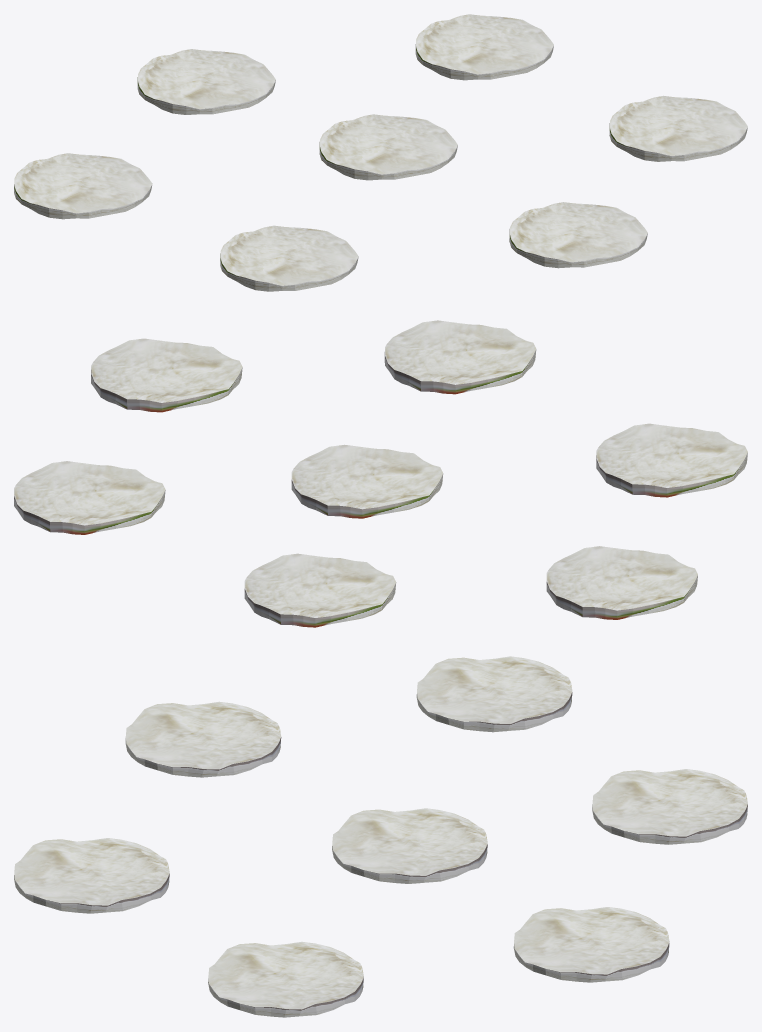
The model's file is mozzarella_op_pizza.glb.
3 views of the same model, one above another, from view 1: azimuth 30°, elevation 25°; view 2: azimuth 150°, elevation 25°; view 3: azimuth 270°, elevation 25° (orthographic). The views are drawn at different scales.
Visible parts, largest first — view 1: Cylinder.004, Cylinder.005, Cylinder.007, Cylinder, Cylinder.003, Cylinder.006, Cylinder.001; view 2: Cylinder.006, Cylinder.007, Cylinder, Cylinder.003, Cylinder.005, Cylinder.001, Cylinder.004; view 3: Cylinder.001, Cylinder.006, Cylinder.003, Cylinder, Cylinder.004, Cylinder.005, Cylinder.007.
Part boxes in pixels (x1,y1,x2,y2): Cylinder.004: [609, 95, 747, 161]; Cylinder.005: [415, 14, 553, 80]; Cylinder.007: [14, 153, 152, 219]; Cylinder: [319, 114, 457, 180]; Cylinder.003: [509, 202, 647, 268]; Cylinder.006: [137, 49, 275, 114]; Cylinder.001: [220, 225, 358, 291]; Cylinder.006: [244, 553, 396, 627]; Cylinder.007: [546, 546, 697, 619]; Cylinder: [291, 444, 443, 518]; Cylinder.003: [384, 320, 536, 394]; Cylinder.005: [14, 461, 165, 534]; Cylinder.001: [596, 423, 747, 497]; Cylinder.004: [91, 338, 242, 412]; Cylinder.001: [125, 701, 281, 777]; Cylinder.006: [592, 769, 747, 844]; Cylinder.003: [14, 838, 169, 913]; Cylinder: [332, 808, 487, 883]; Cylinder.004: [208, 941, 363, 1017]; Cylinder.005: [513, 907, 669, 982]; Cylinder.007: [416, 656, 572, 732].
Bounding box in the file's own units: 2.04 × 0.0389 × 1.8.
Materials: 7 (7 with a texture image).
